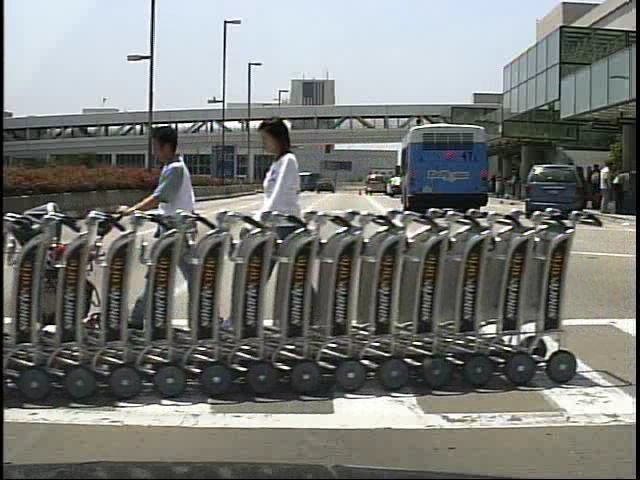person: (248, 114, 326, 349), (124, 120, 207, 339), (597, 160, 617, 213), (587, 164, 607, 215)
